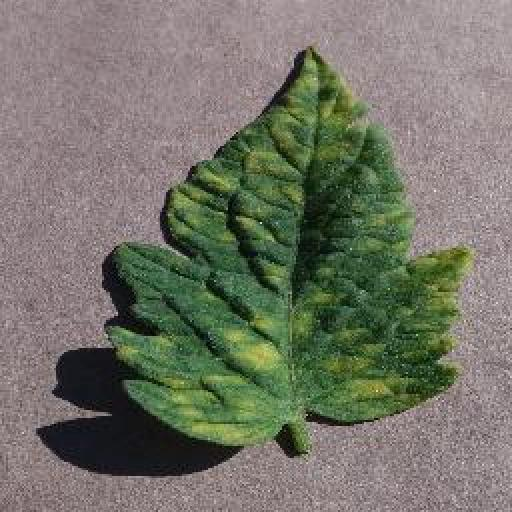disease_tomato: (108, 46, 471, 446)
